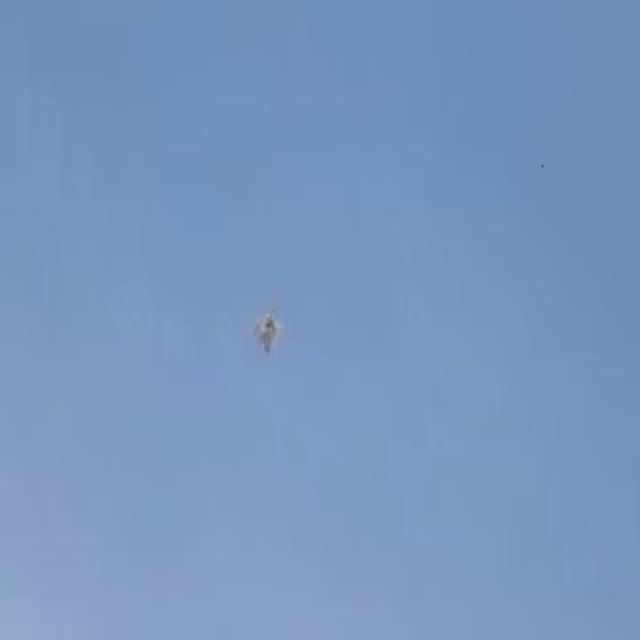drone: (247, 298, 300, 373)
